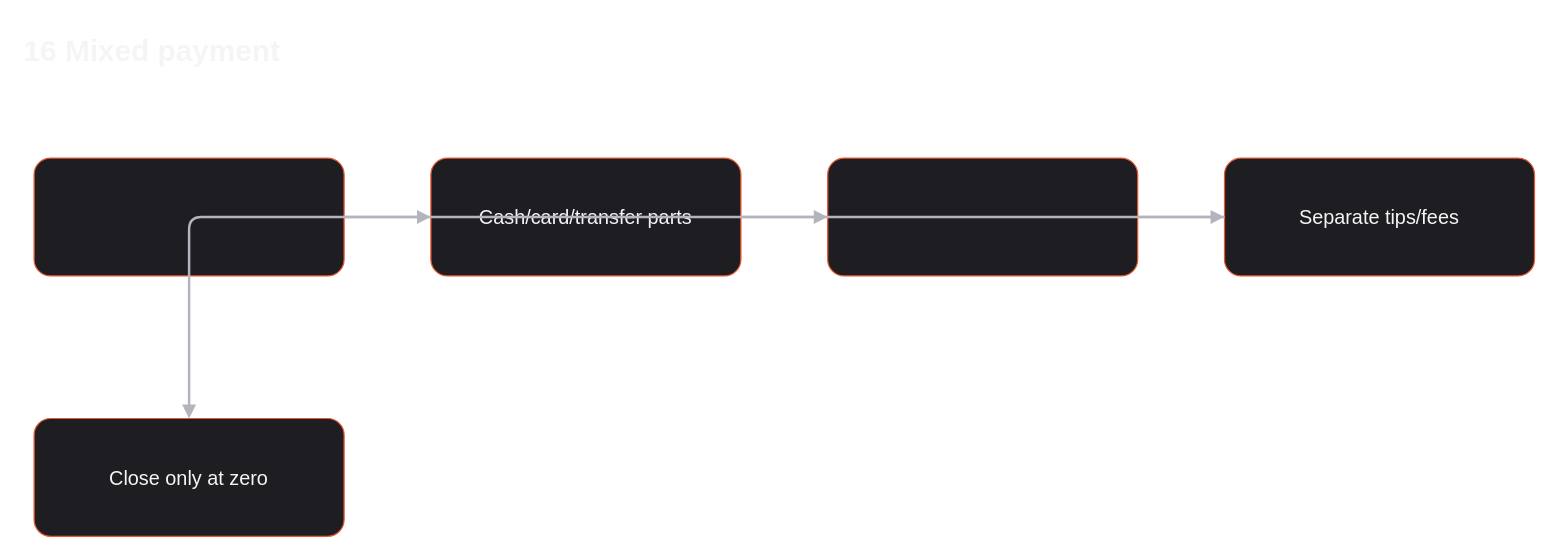
This 1556x558 diagram has some shape labels left out. The shapes that lost their labels are listed below. From the top down, each one's centre as x and y in pixels, then its label:
pixel 188 216: Bill balance
pixel 982 216: Allocate each payment
